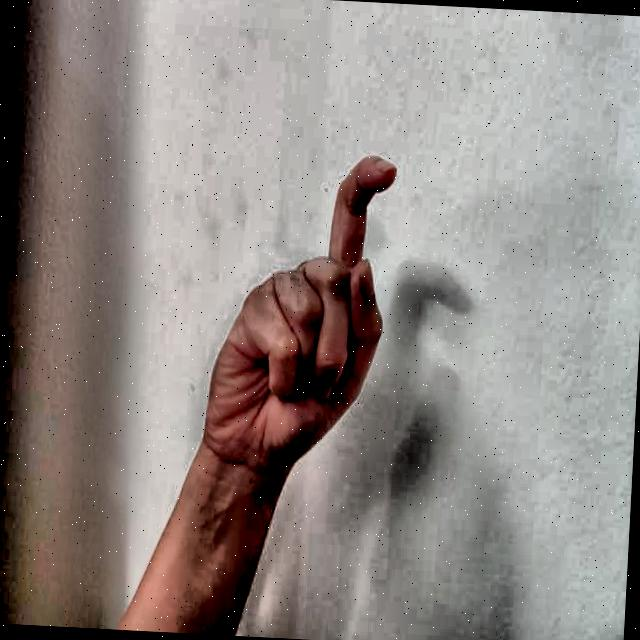E: (172, 122, 435, 500)
